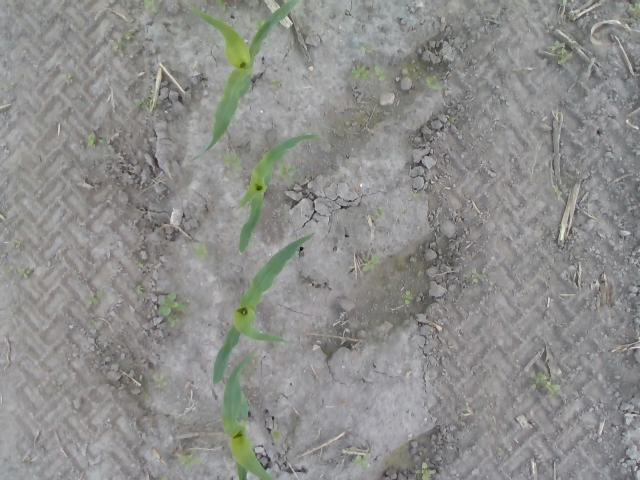Maize: (175, 1, 307, 164), (210, 232, 316, 390), (232, 135, 319, 254), (220, 348, 286, 478)
Weeds: (157, 294, 185, 328), (530, 372, 562, 398), (548, 38, 574, 68), (352, 62, 388, 82), (352, 451, 373, 472), (414, 462, 438, 480), (113, 32, 134, 52), (83, 292, 103, 310), (87, 132, 107, 150), (5, 267, 32, 280), (360, 256, 379, 274), (179, 457, 205, 469), (468, 270, 490, 284), (135, 95, 153, 111), (226, 149, 239, 169), (358, 44, 376, 58), (427, 75, 442, 91), (270, 429, 282, 446), (630, 1, 640, 19), (144, 2, 158, 14), (402, 290, 414, 303), (198, 243, 206, 262), (156, 375, 168, 387), (6, 81, 16, 94), (556, 185, 564, 199), (376, 206, 384, 218), (218, 3, 228, 12), (134, 284, 142, 294), (68, 72, 74, 84), (14, 239, 20, 250), (258, 20, 266, 28), (138, 262, 144, 270), (273, 78, 281, 84), (446, 117, 456, 121), (414, 190, 420, 196), (403, 207, 408, 214)
